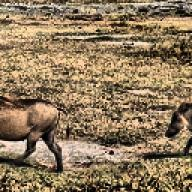boar: (0, 83, 69, 171)
